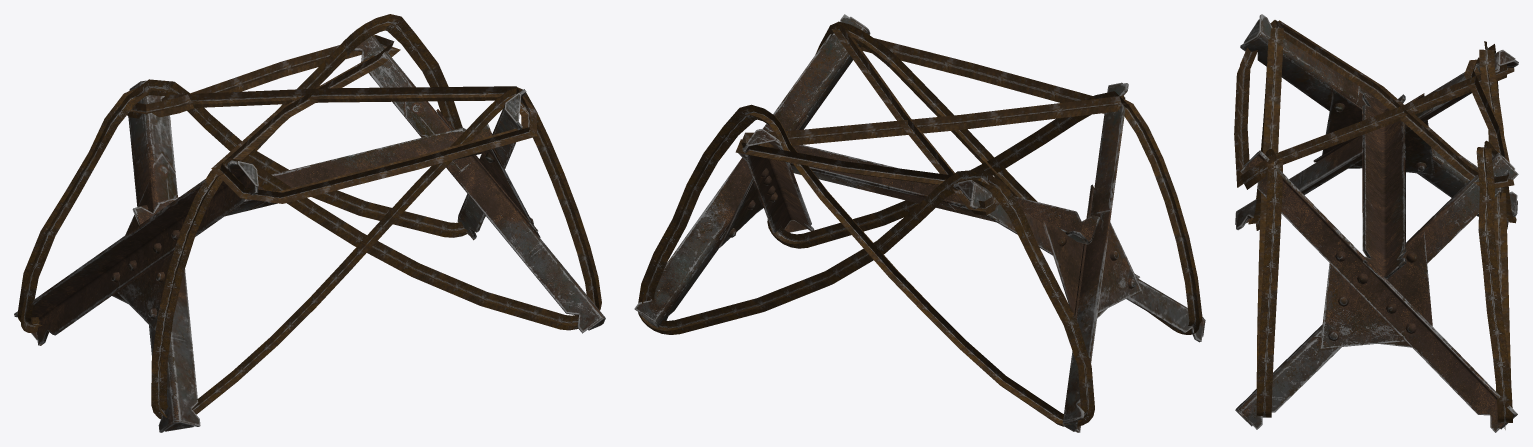
File: Metal_Obstacles_02.FBX
3 renders of one model, left to right at view 1: azimuth 30°, elevation 25°; view 2: azimuth 150°, elevation 25°; view 3: azimuth 270°, elevation 25°, orthographic. The views are drawn at different scales.
Parts seen in each view (by area): view 1: Metal_Obstacles_wire_02, Metal_Obstacles_02; view 2: Metal_Obstacles_wire_02, Metal_Obstacles_02; view 3: Metal_Obstacles_02, Metal_Obstacles_wire_02.
Boxes of the visible parts, <box> form: Metal_Obstacles_wire_02: <box>17,14,601,419</box>; Metal_Obstacles_02: <box>14,35,605,432</box>; Metal_Obstacles_wire_02: <box>638,21,1202,426</box>; Metal_Obstacles_02: <box>634,14,1205,432</box>; Metal_Obstacles_02: <box>1235,14,1518,432</box>; Metal_Obstacles_wire_02: <box>1234,20,1516,429</box>.
Size of the model in its own units: 344 by 180 by 187.
